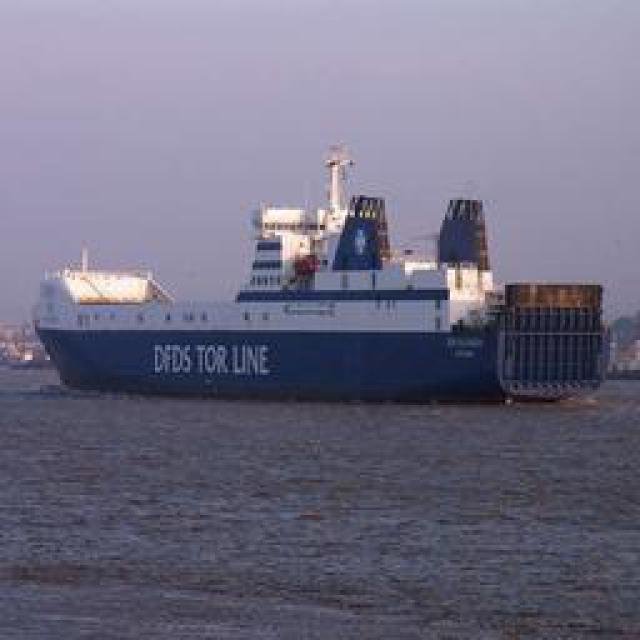Ship: (45, 136, 588, 396)
